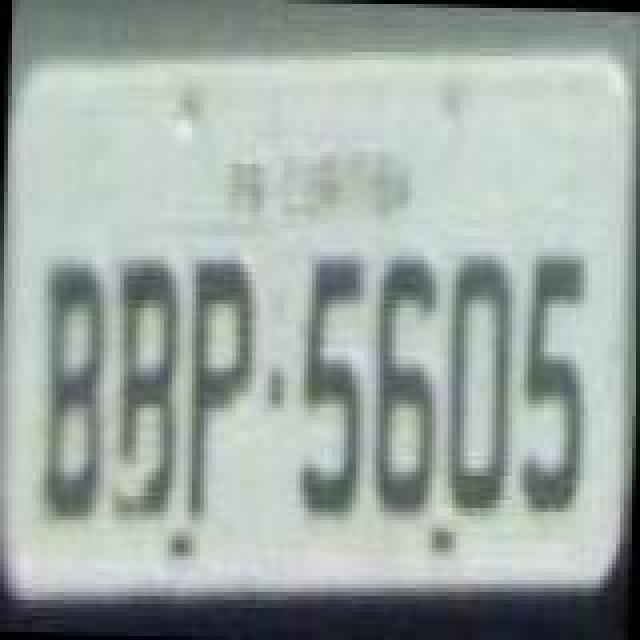5: (298, 248, 366, 520), (522, 252, 590, 516)
6: (368, 254, 440, 522)
B: (110, 248, 186, 524), (40, 258, 112, 526)
O: (442, 248, 518, 516)
P: (186, 256, 254, 520)
